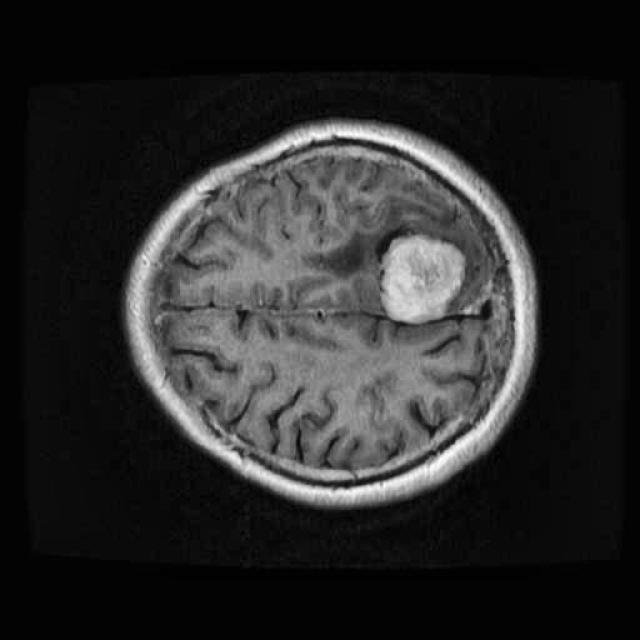Tumor: (374, 221, 475, 328), (471, 326, 474, 334)
